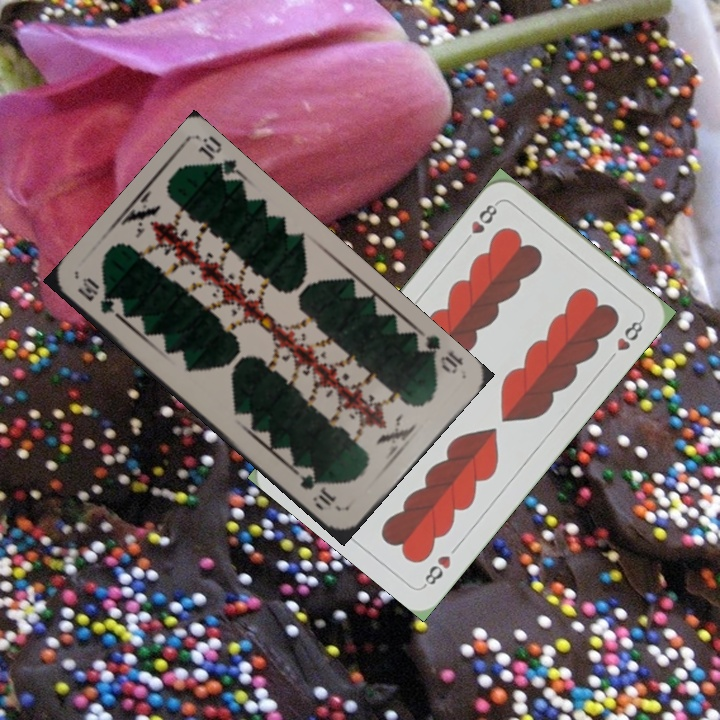G10: (73, 273, 128, 322), (412, 328, 467, 376)
H8: (459, 198, 502, 247), (420, 551, 454, 590)
